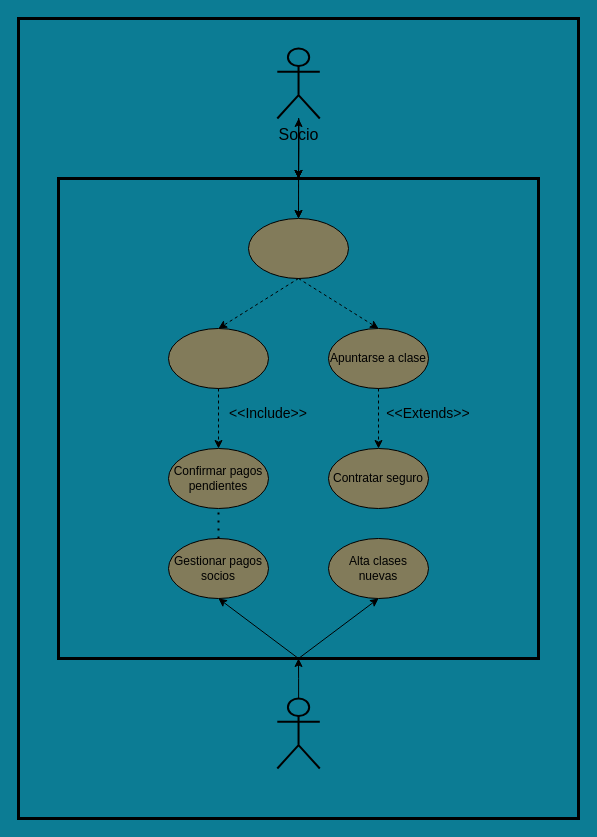
Some shapes in this 597 by 837 pixel diagram are drawn without their labels. Here are the shapes that lost their labels. From the top down, the centre of each, then its label:
At (298,248): "Identificarse".
At (218,358): "Reservar Pista".
At (298,733): "Administrador".
